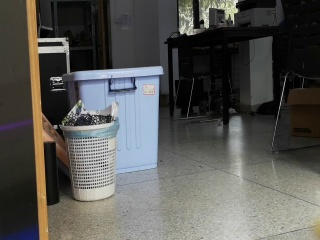room: (9, 4, 318, 240)
